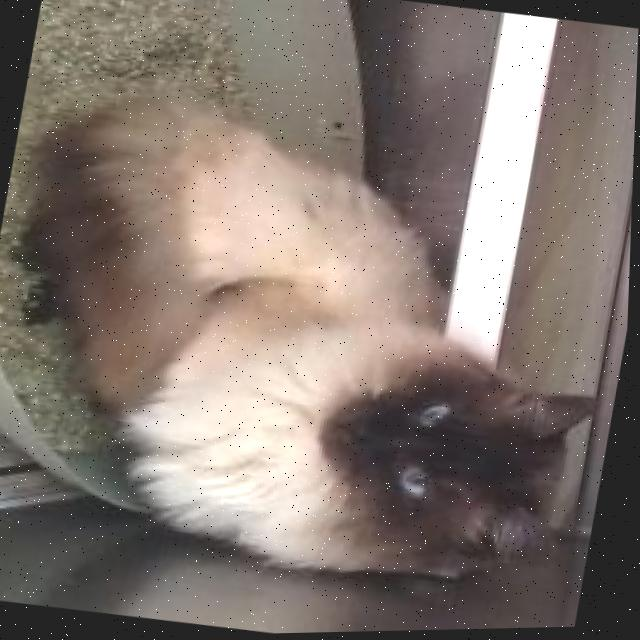Birman: (0, 65, 638, 618)
